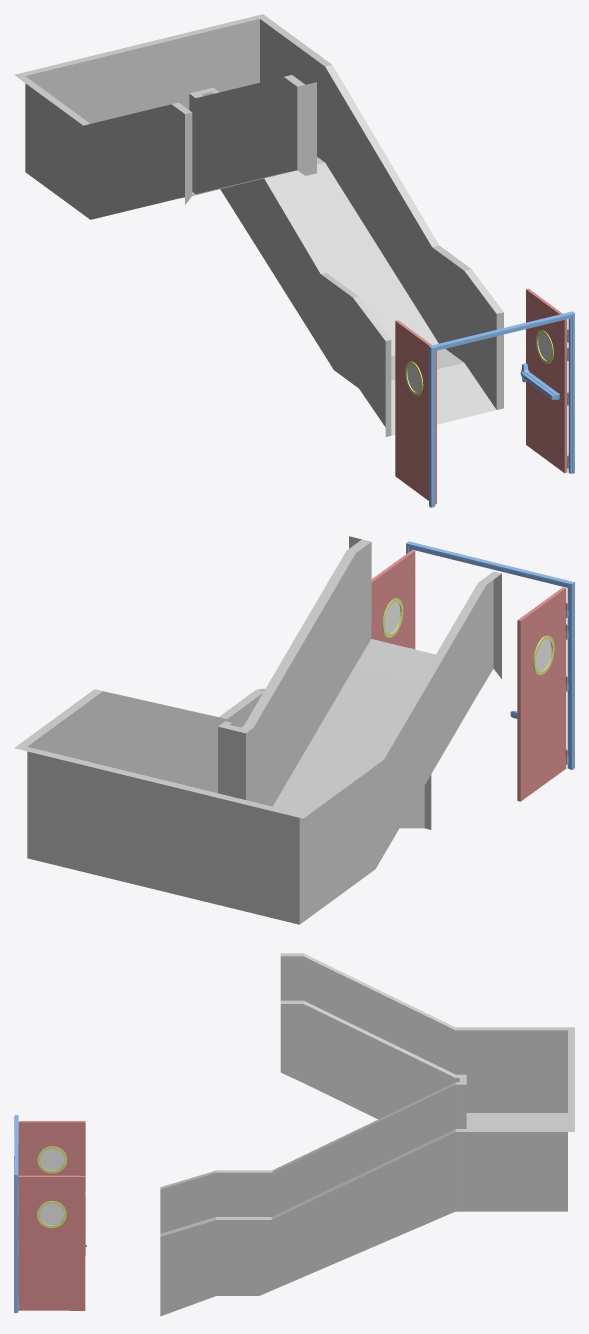
Rendered from PORTE HUBLOT + MESH COLIDER ESCALIER.fbx.
The picture shows the model from 3 angles, top to bottom: view 1: azimuth 30°, elevation 25°; view 2: azimuth 150°, elevation 25°; view 3: azimuth 270°, elevation 25°; orthographic projection. The views are drawn at different scales.
Visible parts, largest first — view 1: Object019, PORTE HUBLOT, porte g hublot016, cadrePorte024; view 2: Object019, porte g hublot016, PORTE HUBLOT, cadrePorte024; view 3: Object019, PORTE HUBLOT, porte g hublot016, cadrePorte024.
Boxes of the visible parts, left/top/right/bottom form: Object019: left=14, top=14, right=503, bottom=436; PORTE HUBLOT: left=526, top=288, right=568, bottom=473; porte g hublot016: left=395, top=320, right=436, bottom=504; cadrePorte024: left=429, top=311, right=574, bottom=507; Object019: left=14, top=536, right=501, bottom=924; porte g hublot016: left=517, top=587, right=567, bottom=801; PORTE HUBLOT: left=371, top=550, right=415, bottom=649; cadrePorte024: left=406, top=541, right=574, bottom=769; Object019: left=160, top=953, right=574, bottom=1316; PORTE HUBLOT: left=18, top=1175, right=85, bottom=1310; porte g hublot016: left=18, top=1121, right=85, bottom=1255; cadrePorte024: left=14, top=1115, right=18, bottom=1312.
Bounding box in the file's own units: 34.37 × 40.05 × 77.88.
